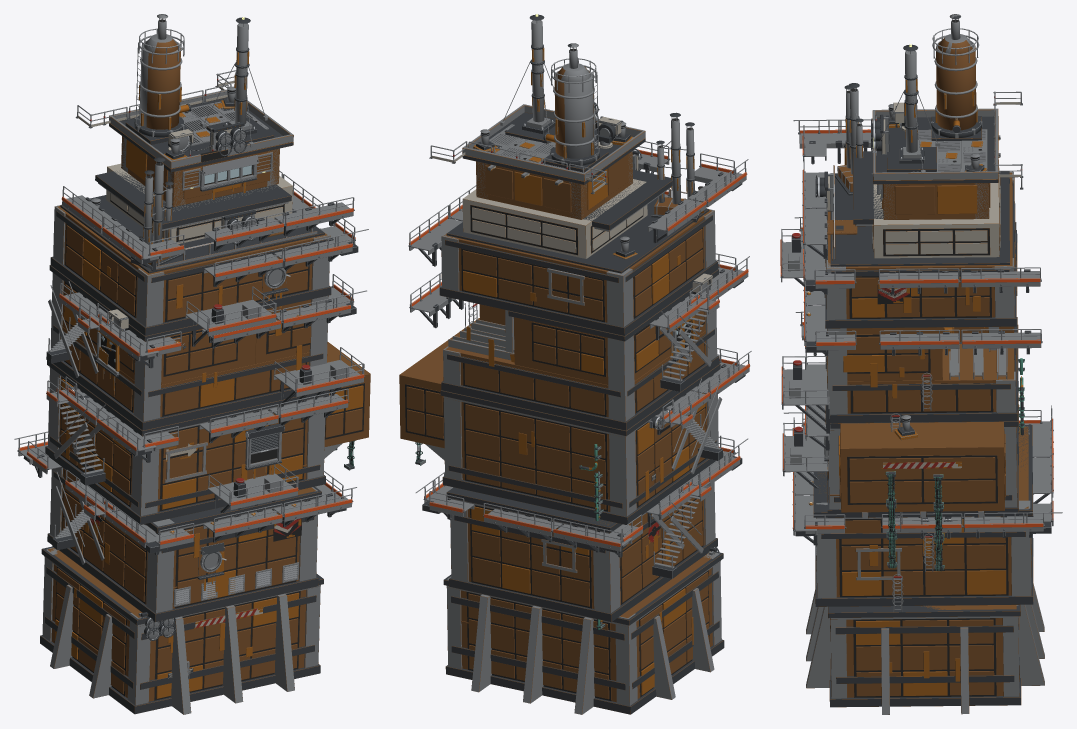
The model's file is mining_rig_derelict.fbx.
3 views of the same model, side by side, from view 1: azimuth 30°, elevation 25°; view 2: azimuth 150°, elevation 25°; view 3: azimuth 270°, elevation 25° (orthographic). The views are drawn at different scales.
Parts seen in each view (by area): view 1: Mesh_L0_Buttressed, Mesh_L4_Stepped, Mesh_L2_Cantilever, Mesh_L3_Breached, Mesh_L1_Plain, Mesh_Crown_MachineHouse, Mesh_Stack_Scrubber, Mesh_Balcony_1, Mesh_Balcony_2, Mesh_Balcony_0, Mesh_Stack_Cluster, Mesh_Stair_1 (+36 smaller); view 2: Mesh_L4_Stepped, Mesh_L2_Cantilever, Mesh_L0_Buttressed, Mesh_L3_Breached, Mesh_L1_Plain, Mesh_Crown_MachineHouse, Mesh_Stack_Scrubber, Mesh_Stack_Cluster, Mesh_Stair_2, Mesh_Stair_0, Mesh_Stack_Flue, Mesh_Stair_1 (+17 smaller); view 3: Mesh_L0_Buttressed, Mesh_L4_Stepped, Mesh_L1_Plain, Mesh_L2_Cantilever, Mesh_L3_Breached, Mesh_Crown_MachineHouse, Mesh_Stack_Scrubber, Mesh_Balcony_1, Mesh_Stack_Flue, Mesh_Balcony_0, Mesh_Stack_Cluster, Mesh_Walk_L3_E1 (+25 smaller).
Boxes of the visible parts, x1,y1,x2,y2 form: Mesh_L0_Buttressed: (40,546,323,714); Mesh_L4_Stepped: (50,163,331,335); Mesh_L2_Cantilever: (45,342,370,524); Mesh_L3_Breached: (49,265,328,430); Mesh_L1_Plain: (47,467,321,621); Mesh_Crown_MachineHouse: (109,89,293,206); Mesh_Stack_Scrubber: (134,14,191,137); Mesh_Balcony_1: (273,347,365,407); Mesh_Balcony_2: (185,286,277,346); Mesh_Balcony_0: (207,461,299,512); Mesh_Stack_Cluster: (130,157,182,267); Mesh_Stair_1: (46,376,105,485); Mesh_L4_Stepped: (439,169,718,335); Mesh_L2_Cantilever: (399,318,720,524); Mesh_L0_Buttressed: (443,551,724,714); Mesh_L3_Breached: (441,269,719,430); Mesh_L1_Plain: (446,482,717,622); Mesh_Crown_MachineHouse: (462,104,645,219); Mesh_Stack_Scrubber: (543,43,599,165); Mesh_Stack_Cluster: (651,112,703,222); Mesh_Stair_2: (659,285,719,391); Mesh_Stair_0: (651,475,711,578); Mesh_Stack_Flue: (499,14,555,143); Mesh_Stair_1: (661,378,723,474); Mesh_L0_Buttressed: (806,583,1044,714); Mesh_L4_Stepped: (825,151,1016,328); Mesh_L1_Plain: (813,425,1033,606); Mesh_L2_Cantilever: (825,325,1018,518); Mesh_L3_Breached: (824,230,1017,423); Mesh_Crown_MachineHouse: (872,108,998,219); Mesh_Stack_Scrubber: (931,14,982,138); Mesh_Balcony_1: (781,356,830,433); Mesh_Stack_Flue: (872,44,940,172); Mesh_Balcony_0: (782,422,828,488); Mesh_Stack_Cluster: (835,83,863,195); Mesh_Walk_L3_E1: (960,329,1042,354).
Bounding box in the file's own units: 2501 × 5385 × 2137.
